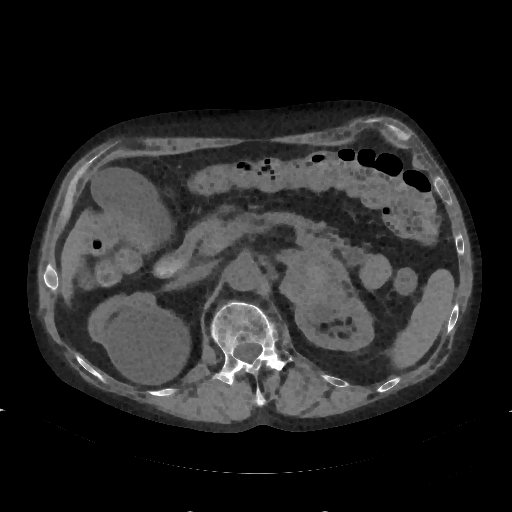Lesion: (103, 305, 194, 387)
